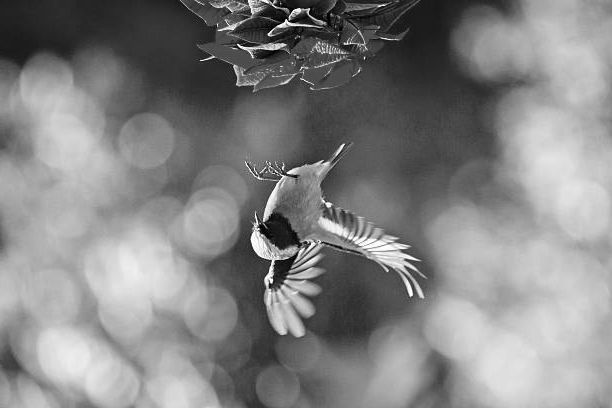Bird: (237, 140, 427, 344)
